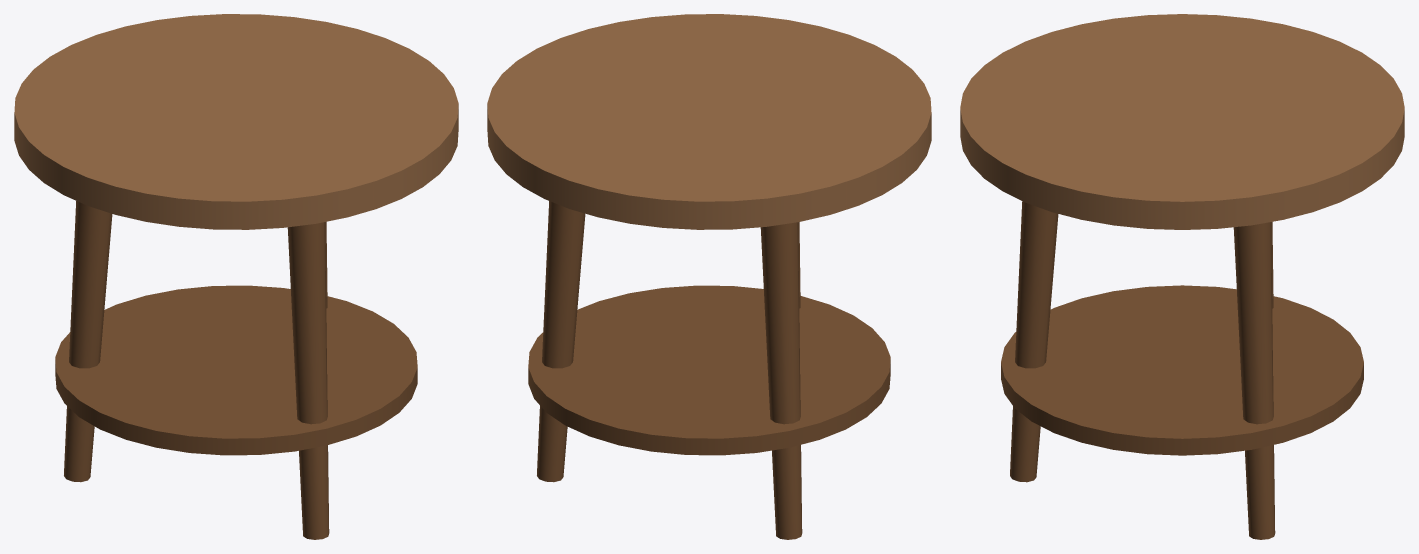
Rendered from end_table.glb.
3 views of the same model, side by side, from view 1: azimuth 30°, elevation 25°; view 2: azimuth 150°, elevation 25°; view 3: azimuth 270°, elevation 25° (orthographic).
Parts seen in each view (by area): view 1: Round tabletop, Lower circular shelf, Splayed wooden table leg.002, Splayed wooden table leg.001; view 2: Round tabletop, Lower circular shelf, Splayed wooden table leg.001, Splayed wooden table leg; view 3: Round tabletop, Lower circular shelf, Splayed wooden table leg, Splayed wooden table leg.002.
Boxes of the visible parts, x1=… form: Round tabletop: x1=14, y1=14, x2=458, y2=229; Lower circular shelf: x1=55, y1=285, x2=417, y2=455; Splayed wooden table leg.002: x1=287, y1=222, x2=329, y2=539; Splayed wooden table leg.001: x1=64, y1=201, x2=112, y2=482; Round tabletop: x1=487, y1=14, x2=931, y2=229; Lower circular shelf: x1=528, y1=285, x2=890, y2=455; Splayed wooden table leg.001: x1=760, y1=222, x2=802, y2=539; Splayed wooden table leg: x1=537, y1=201, x2=585, y2=482; Round tabletop: x1=960, y1=14, x2=1404, y2=229; Lower circular shelf: x1=1001, y1=285, x2=1363, y2=455; Splayed wooden table leg: x1=1233, y1=222, x2=1275, y2=539; Splayed wooden table leg.002: x1=1010, y1=201, x2=1058, y2=482.
Bounding box in the file's own units: 0.6 × 0.55 × 0.6.
